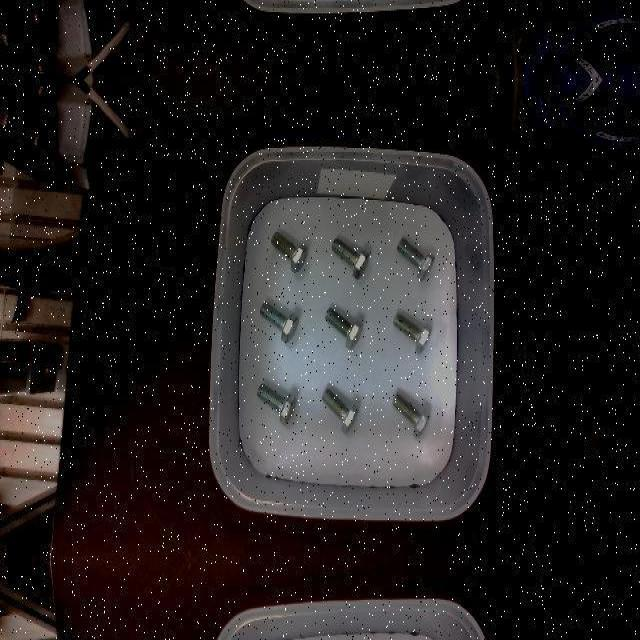screw: (397, 236, 435, 282), (321, 388, 359, 434), (392, 392, 430, 438), (259, 300, 299, 342), (256, 383, 296, 425), (393, 313, 432, 355), (324, 307, 362, 349), (331, 238, 370, 278), (271, 231, 308, 273)
